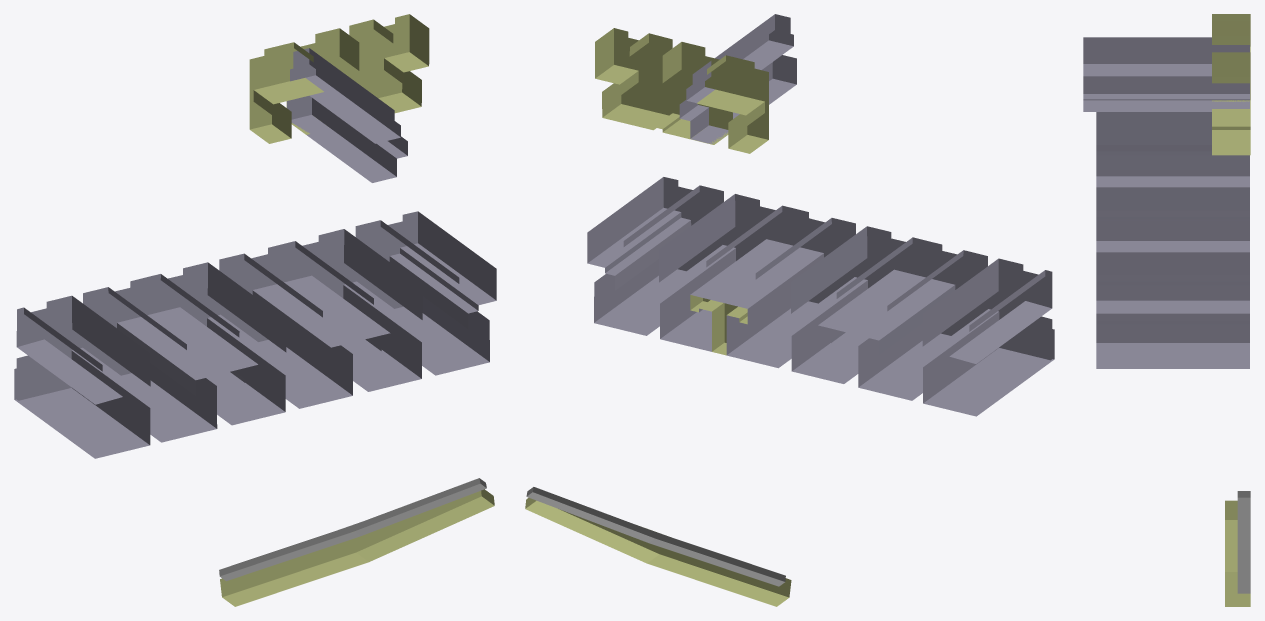
3 renders of one model, left to right at view 1: azimuth 30°, elevation 25°; view 2: azimuth 150°, elevation 25°; view 3: azimuth 270°, elevation 25°, orthographic. The views are drawn at different scales.
Parts seen in each view (by area): view 1: 0_2_0_1_2; view 2: 0_2_0_1_2; view 3: 0_2_0_1_2.
Boxes of the visible parts, <box> form: 0_2_0_1_2: <box>14,14,496,606</box>; 0_2_0_1_2: <box>525,14,1054,606</box>; 0_2_0_1_2: <box>1083,14,1250,606</box>.
Size of the model in its own units: 124 by 137 by 39.15.
